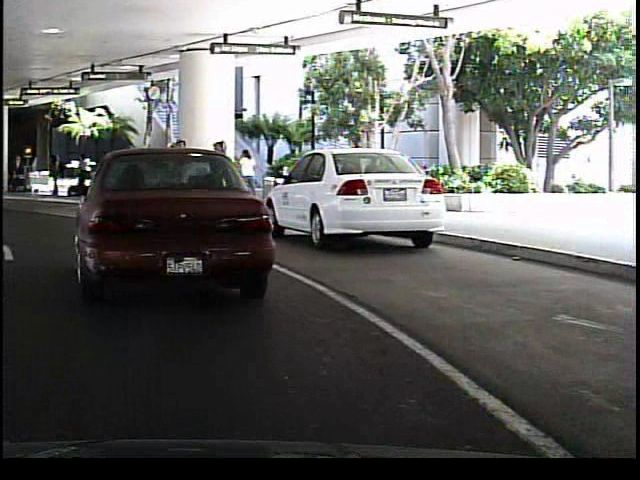person: (165, 134, 192, 207), (203, 136, 227, 210), (234, 145, 260, 204), (45, 149, 64, 202), (68, 155, 90, 196)
